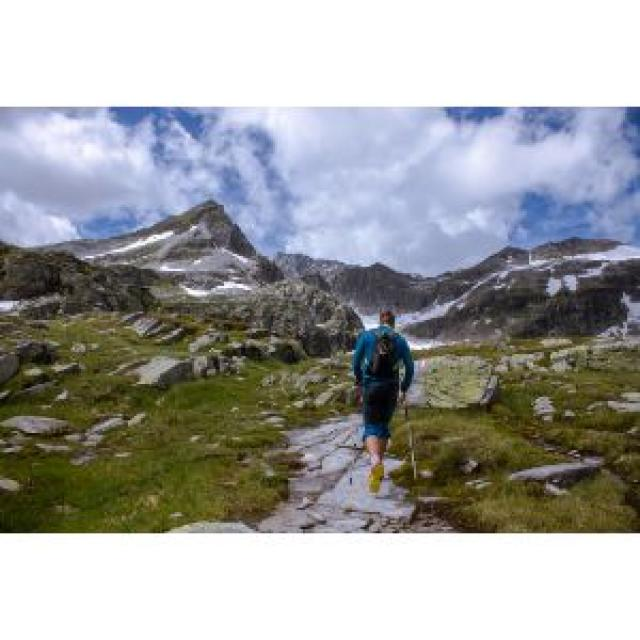nonfall: (314, 293, 428, 499)
